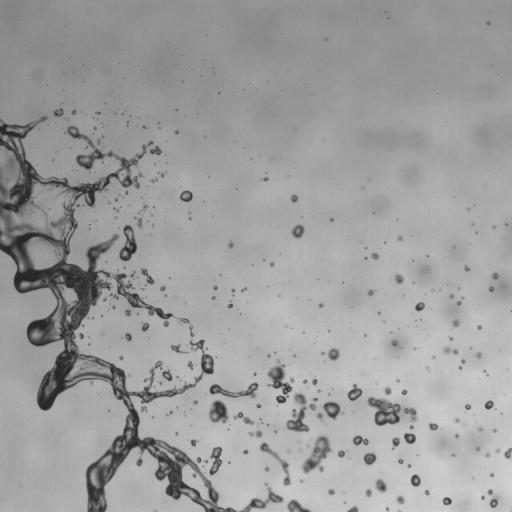droplet: (286, 392, 318, 431), (267, 359, 294, 405), (367, 396, 401, 426), (316, 401, 342, 420), (208, 400, 229, 423), (347, 384, 362, 401), (363, 452, 376, 465), (292, 224, 304, 238), (375, 478, 386, 492), (353, 435, 368, 445), (403, 432, 415, 444), (180, 190, 192, 201), (328, 348, 339, 360), (410, 474, 420, 486), (171, 345, 184, 353), (249, 430, 262, 437), (415, 302, 425, 311), (150, 146, 161, 154), (392, 437, 400, 448), (504, 448, 511, 460), (53, 108, 63, 116), (135, 217, 142, 228), (395, 274, 403, 283), (141, 322, 149, 331), (485, 400, 493, 409), (429, 422, 438, 430), (396, 495, 404, 504), (442, 497, 451, 505), (290, 194, 298, 202), (452, 319, 459, 328), (384, 386, 391, 395), (337, 450, 346, 457), (371, 252, 379, 259), (124, 333, 131, 341), (187, 361, 194, 369), (190, 439, 197, 446), (365, 489, 371, 497), (492, 272, 498, 279), (367, 289, 374, 295), (125, 309, 131, 316), (391, 340, 397, 346), (401, 389, 407, 395), (328, 488, 334, 494), (158, 172, 165, 177), (228, 241, 233, 248), (130, 271, 135, 278), (312, 378, 317, 385), (262, 176, 268, 181), (464, 266, 470, 271), (227, 302, 232, 308), (476, 352, 481, 358), (465, 404, 470, 410), (454, 418, 459, 423), (398, 458, 403, 463), (264, 466, 269, 471), (151, 178, 157, 182), (79, 333, 83, 339), (114, 208, 119, 212), (398, 236, 402, 241), (213, 285, 217, 290), (160, 286, 165, 290), (241, 287, 246, 291), (489, 286, 493, 291), (119, 355, 123, 360), (461, 359, 465, 364), (484, 370, 488, 375), (167, 411, 172, 415), (485, 453, 490, 457), (270, 262, 274, 266), (457, 301, 461, 305), (319, 303, 323, 307), (477, 325, 481, 329), (193, 400, 197, 404), (478, 427, 482, 431), (476, 447, 480, 451), (243, 450, 247, 454), (490, 473, 494, 477), (425, 490, 429, 494), (72, 110, 75, 114), (97, 140, 100, 144), (450, 294, 453, 298), (458, 365, 461, 369), (303, 380, 307, 383), (317, 389, 320, 393), (493, 428, 496, 432), (455, 433, 458, 437), (496, 449, 500, 452), (386, 507, 389, 511), (93, 127, 96, 130), (175, 130, 178, 133), (330, 218, 333, 221), (231, 289, 234, 292), (212, 296, 215, 299), (103, 298, 106, 301), (449, 337, 452, 340), (267, 354, 270, 357), (257, 404, 260, 407), (481, 496, 484, 499), (112, 306, 115, 308), (293, 354, 295, 357), (254, 372, 256, 375), (396, 379, 399, 381), (452, 454, 455, 456), (408, 464, 410, 467), (487, 22, 489, 24), (96, 112, 98, 114), (143, 126, 145, 128), (125, 191, 127, 193), (189, 217, 191, 219), (493, 226, 495, 228), (414, 347, 416, 349), (426, 367, 428, 369), (300, 480, 302, 482), (510, 509, 511, 511)
ligament: (0, 116, 280, 511), (259, 442, 290, 485), (301, 435, 332, 473), (209, 382, 258, 398), (119, 224, 137, 261), (209, 446, 222, 475), (287, 499, 311, 511), (404, 407, 417, 429), (178, 318, 193, 336), (233, 412, 254, 424), (141, 268, 154, 284), (488, 489, 498, 507), (443, 346, 458, 354), (140, 203, 148, 213), (347, 506, 358, 511), (398, 510, 401, 511)
